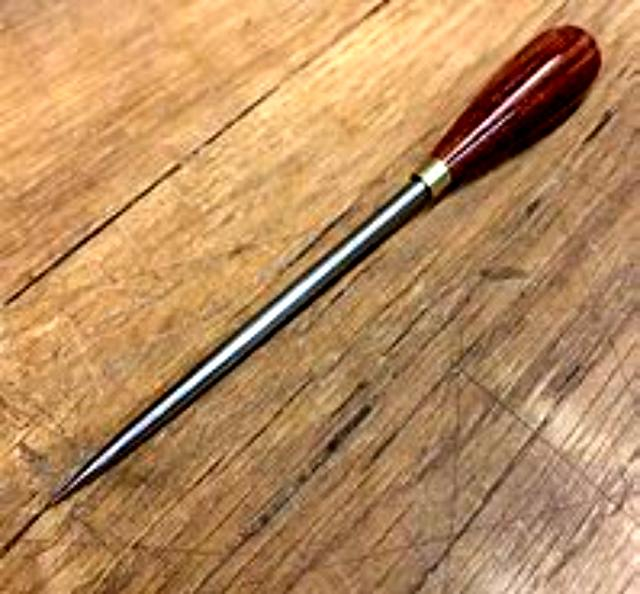ice pick: (51, 20, 604, 518)
